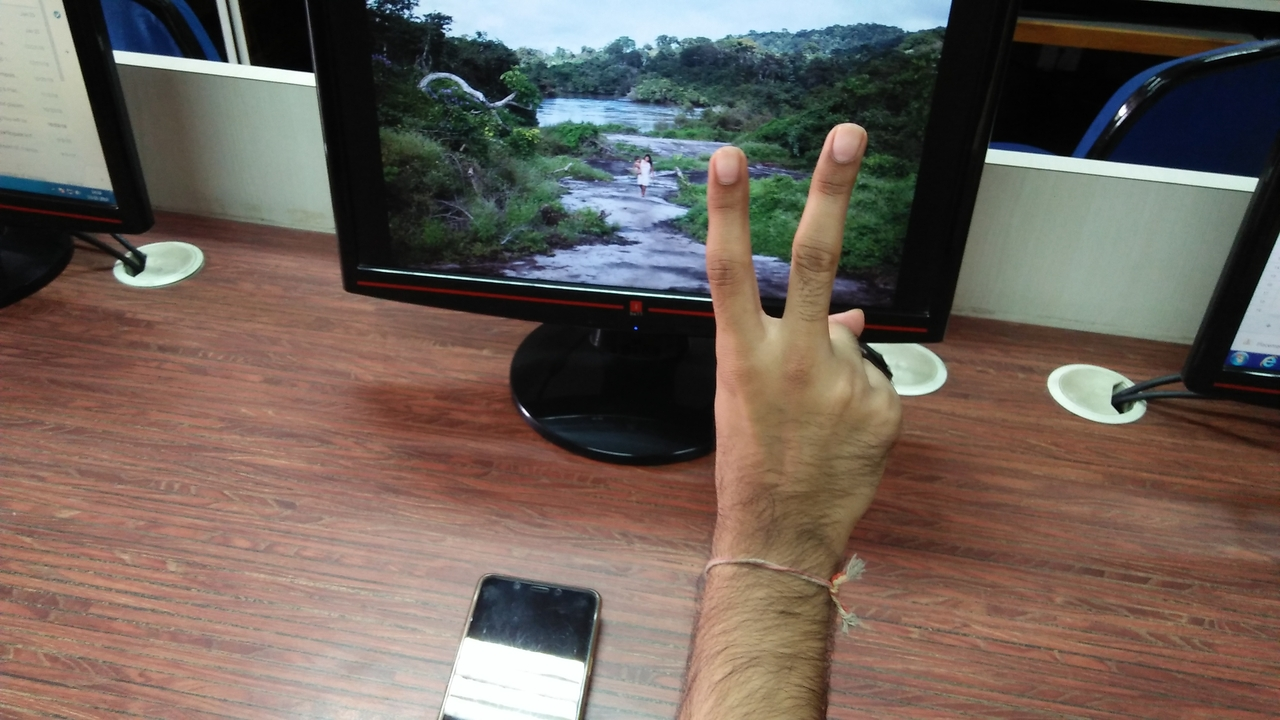fingertip: (814, 116, 874, 170), (704, 136, 754, 190)
